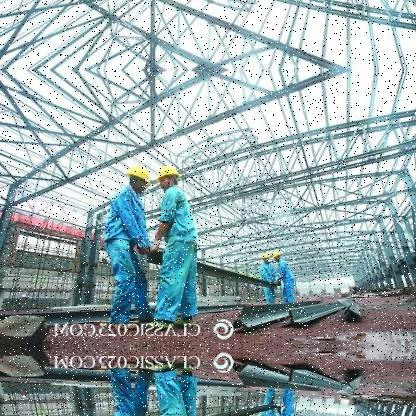helmet: (158, 163, 183, 187), (129, 163, 153, 187), (261, 250, 273, 263), (273, 246, 283, 260)
